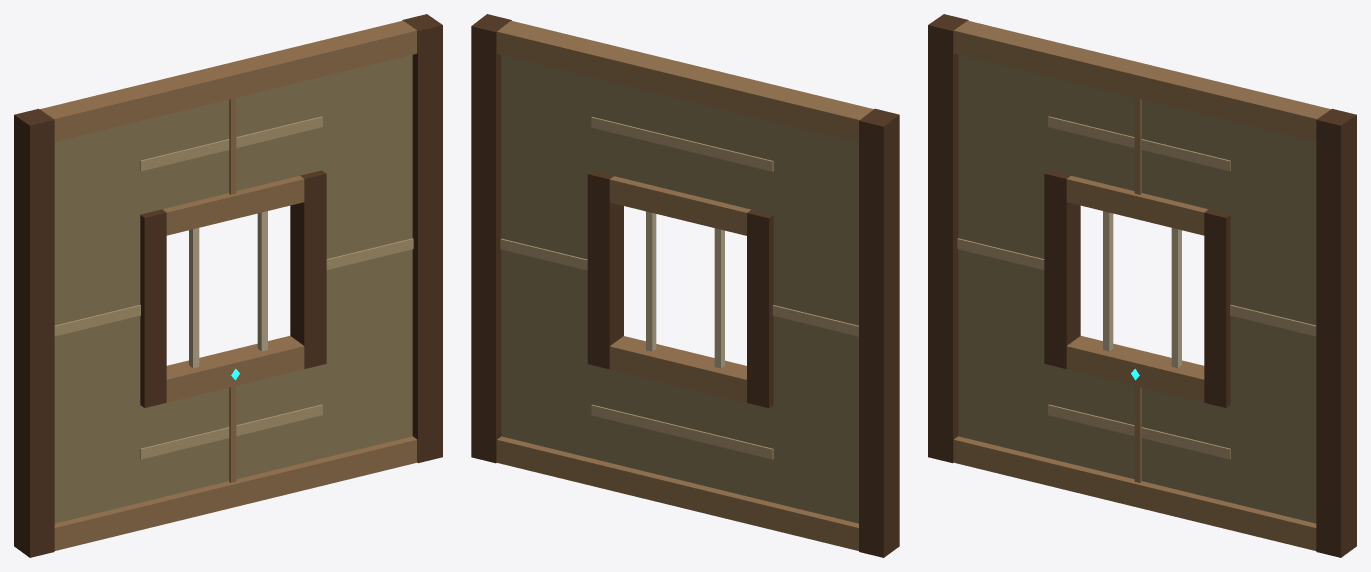
The model's file is wall_window_lod1.glb.
3 views of the same model, side by side, from view 1: azimuth 30°, elevation 25°; view 2: azimuth 150°, elevation 25°; view 3: azimuth 330°, elevation 25° (orthographic).
Parts seen in each view (by area): view 1: wall_window_mesh; view 2: wall_window_mesh; view 3: wall_window_mesh.
Boxes of the visible parts, x1,y1,x2,y2 form: wall_window_mesh: (14,14,442,557); wall_window_mesh: (471,14,899,557); wall_window_mesh: (928,14,1356,557).
Size of the model in its own units: 3 by 3 by 0.2.
